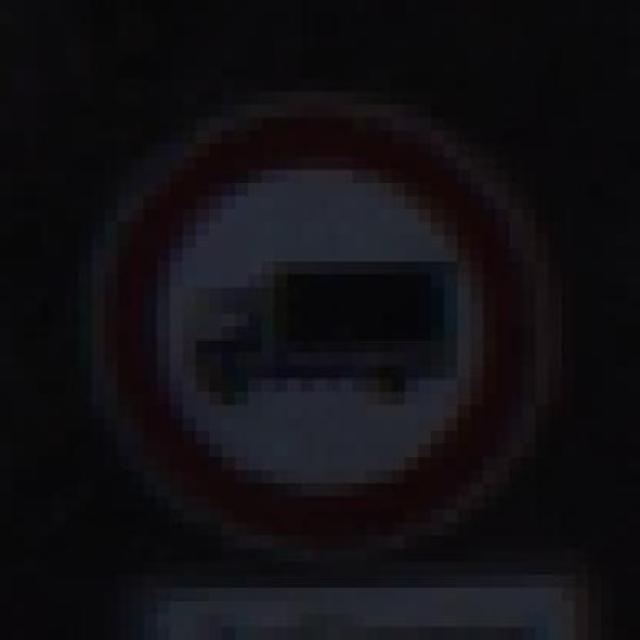Truck traffic is prohibited: (52, 65, 600, 562)
